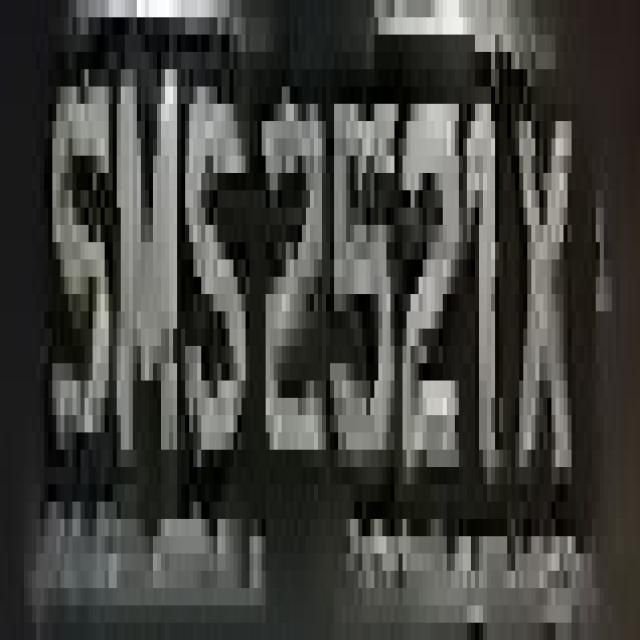1: (479, 52, 499, 519)
2: (258, 35, 334, 484), (398, 52, 463, 519)
5: (330, 52, 395, 519)
M: (113, 18, 189, 536)
S: (181, 52, 258, 519), (48, 18, 109, 432)
X: (511, 69, 576, 519)
